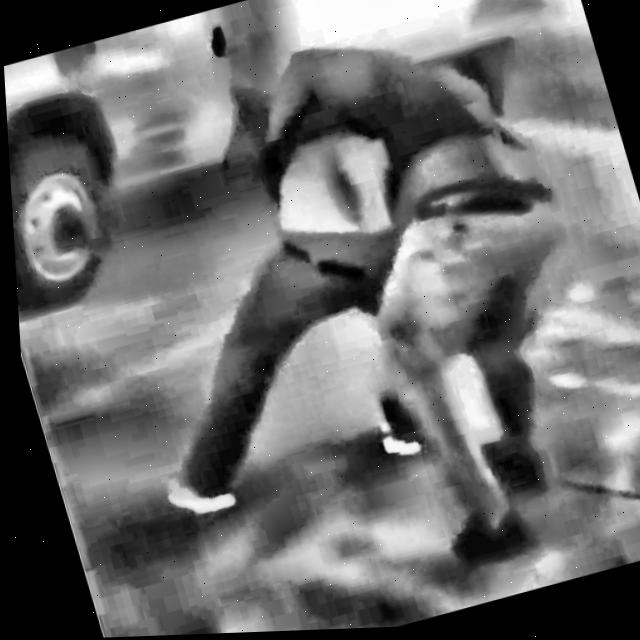robbery: (155, 31, 581, 580)
